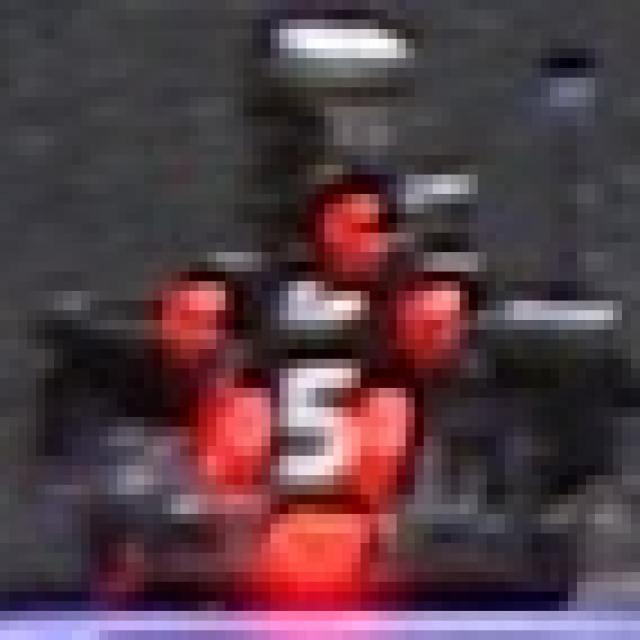R5: (216, 359, 415, 485)
